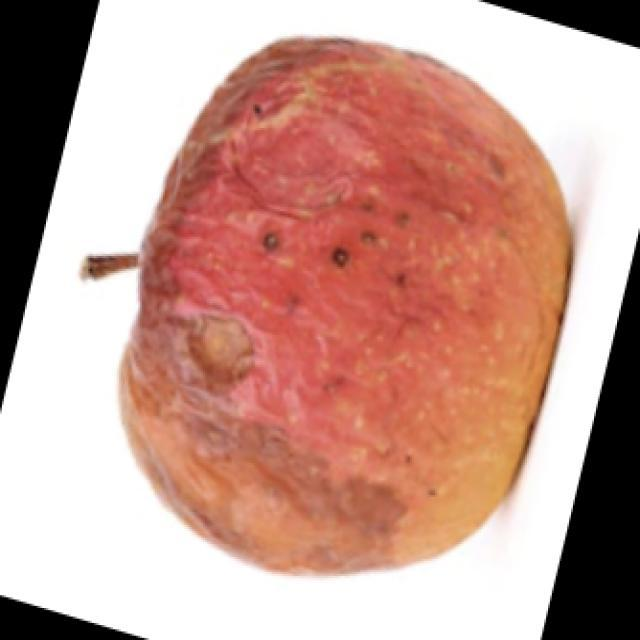Rotten: (152, 29, 568, 554)
